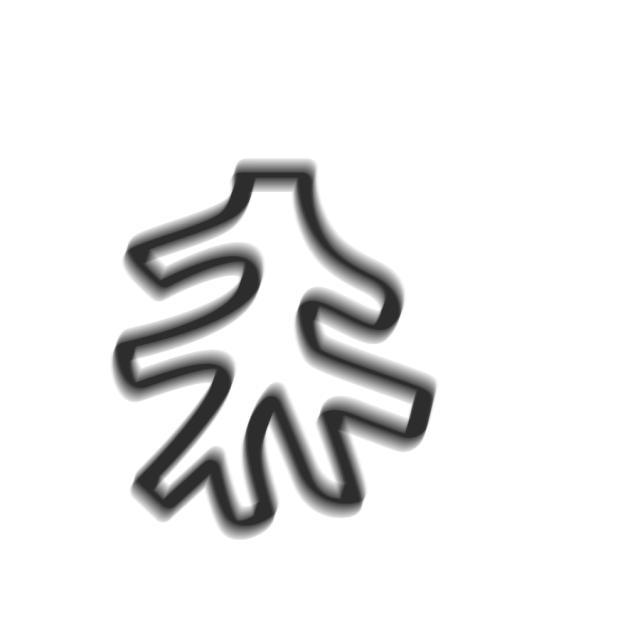coral: (106, 156, 447, 546)
